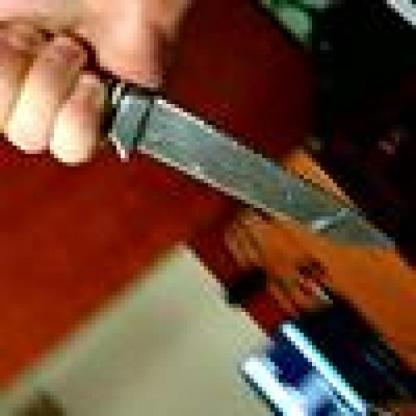Knife: (4, 21, 412, 270)
